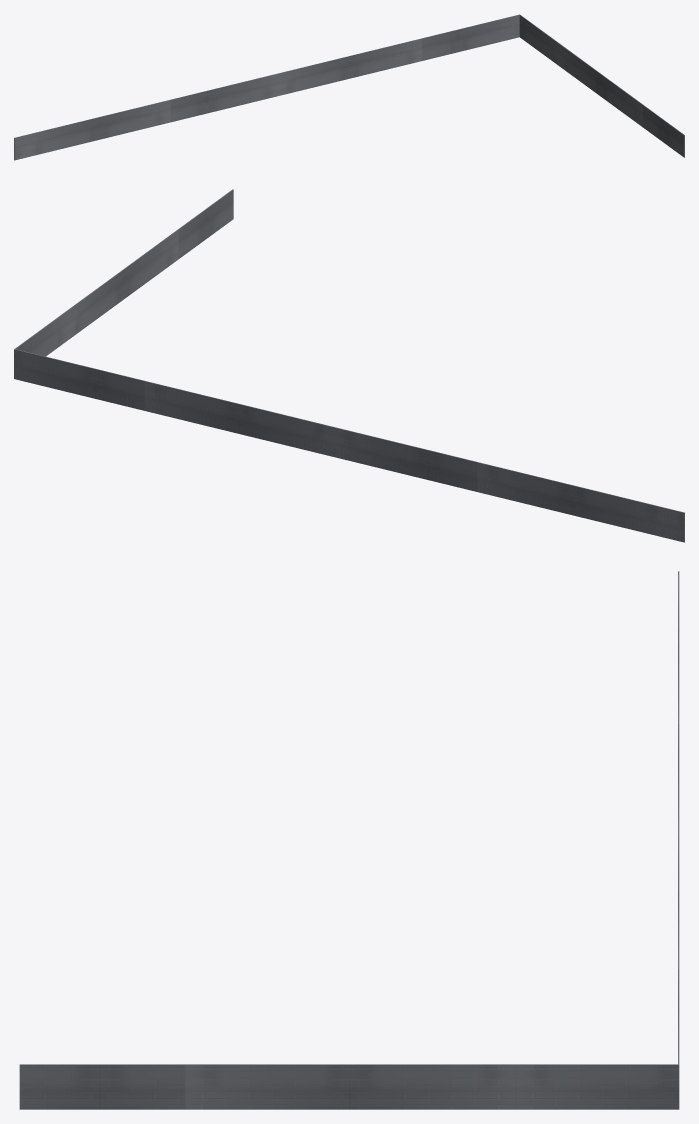
File: BP_CatchIISiliconGloss.glb
The picture shows the model from 3 angles, top to bottom: view 1: azimuth 30°, elevation 25°; view 2: azimuth 150°, elevation 25°; view 3: azimuth 270°, elevation 25°; orthographic projection. The views are drawn at different scales.
Parts seen in each view (by area): view 1: BKSPLASH_catch_2_silicon_gloss.001; view 2: BKSPLASH_catch_2_silicon_gloss.001; view 3: BKSPLASH_catch_2_silicon_gloss.001.
Boxes of the visible parts, x1,y1,x2,y2 form: BKSPLASH_catch_2_silicon_gloss.001: (14, 14, 684, 160); BKSPLASH_catch_2_silicon_gloss.001: (14, 189, 684, 542); BKSPLASH_catch_2_silicon_gloss.001: (19, 571, 679, 1109).
Size of the model in its own units: 7.1 by 0.3 by 4.01.
Materials: 1 (1 with a texture image).
